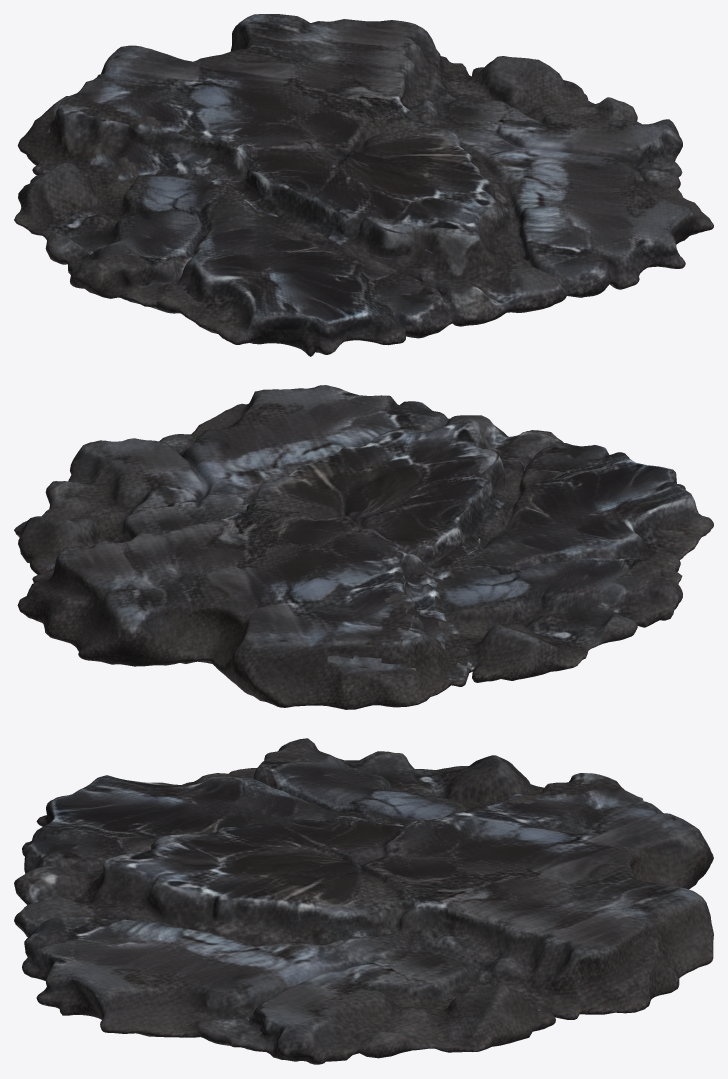
File: BlackSlate_base_basic_pbr.glb
3 views of the same model, one above another, from view 1: azimuth 30°, elevation 25°; view 2: azimuth 150°, elevation 25°; view 3: azimuth 270°, elevation 25° (orthographic). The views are drawn at different scales.
Parts seen in each view (by area): view 1: model; view 2: model; view 3: model.
Boxes of the visible parts, x1=… form: model: x1=14, y1=14, x2=713, y2=356; model: x1=14, y1=385, x2=713, y2=709; model: x1=14, y1=738, x2=713, y2=1064.
Size of the model in its own units: 1.89 by 0.1809 by 1.83.
1 material, 1 textured.
